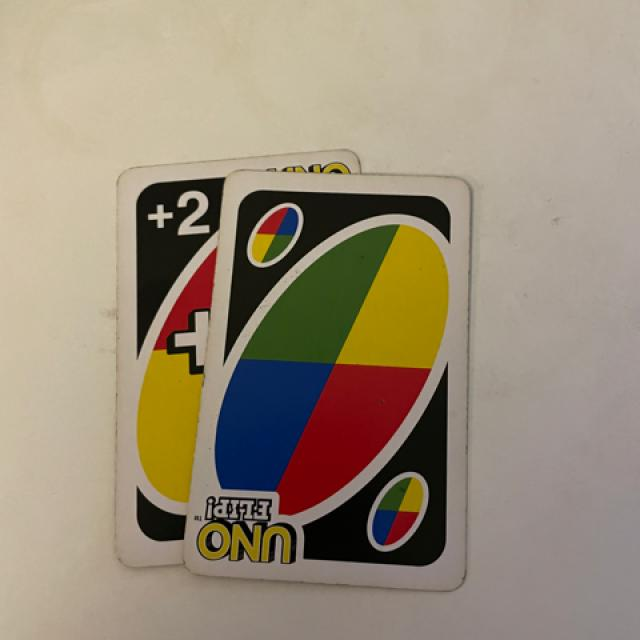lcolor-40: (236, 186, 305, 270)
